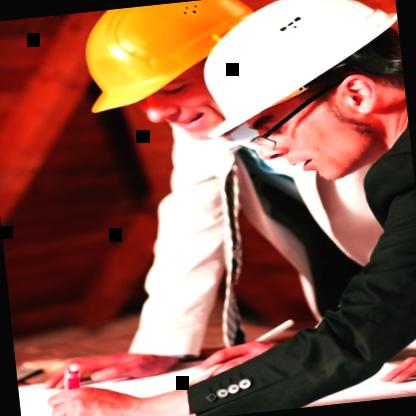helmet: (142, 0, 413, 202), (67, 0, 308, 183)
